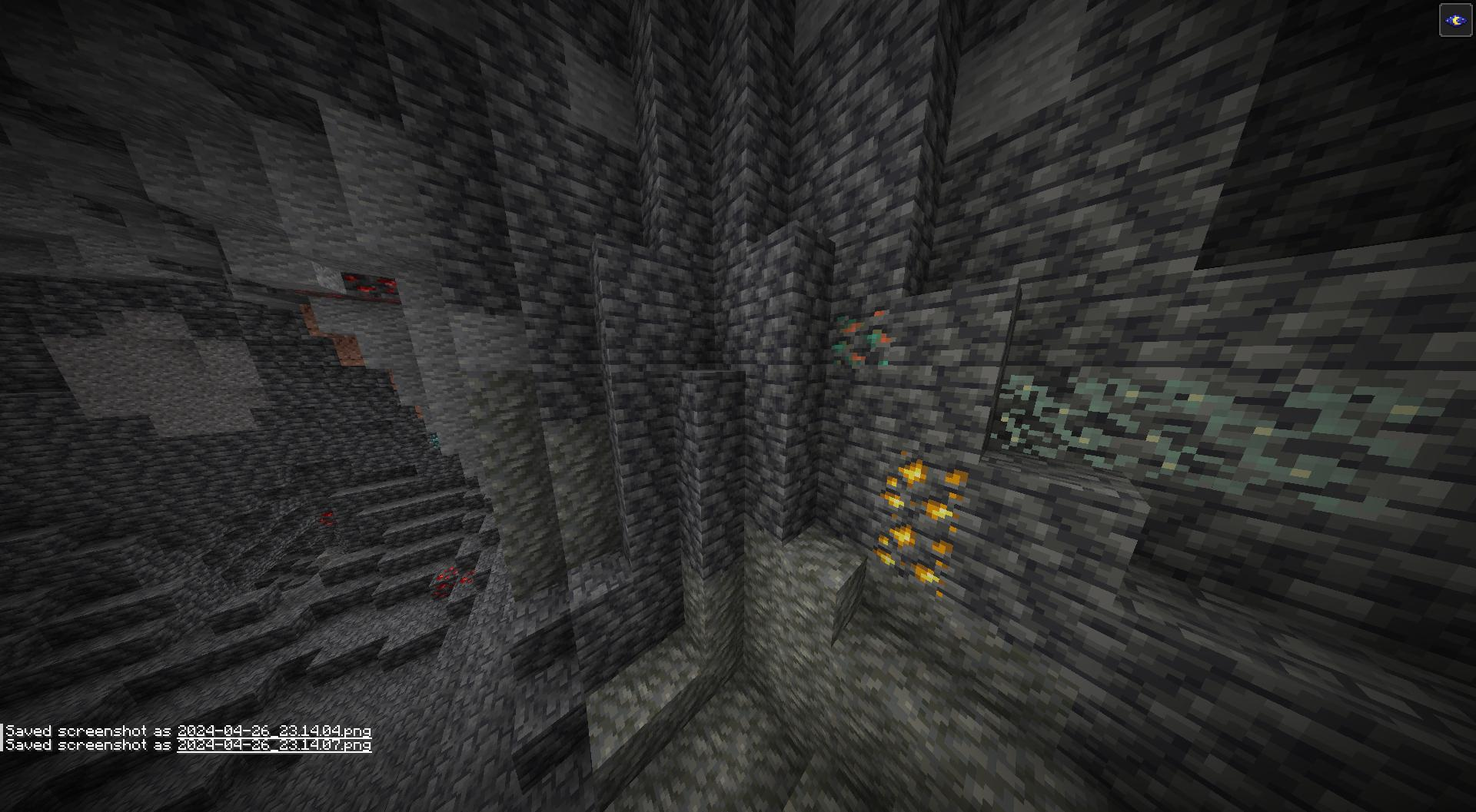diamond ore: (421, 430, 444, 453)
gold ore: (882, 452, 963, 525), (875, 513, 955, 586)
redstone ore: (340, 264, 400, 305), (428, 564, 472, 592), (316, 509, 340, 528)
